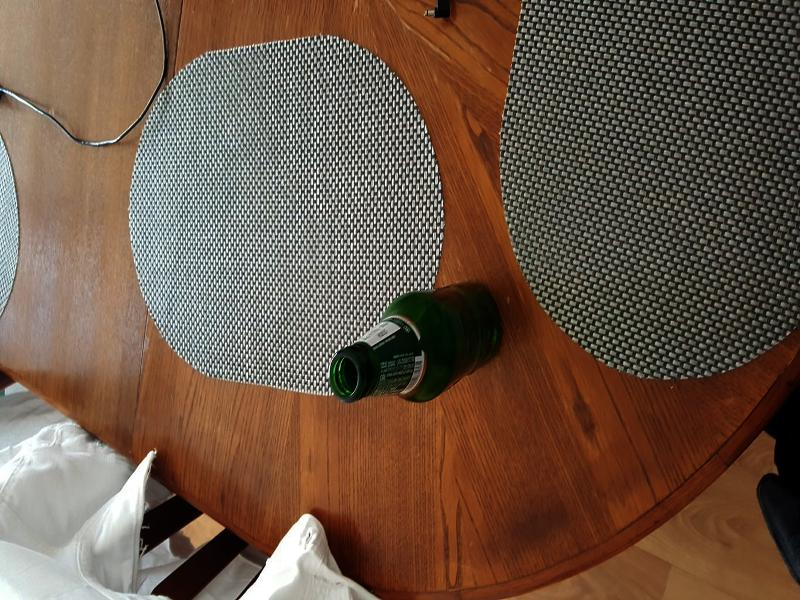Beer: (329, 285, 504, 402)
